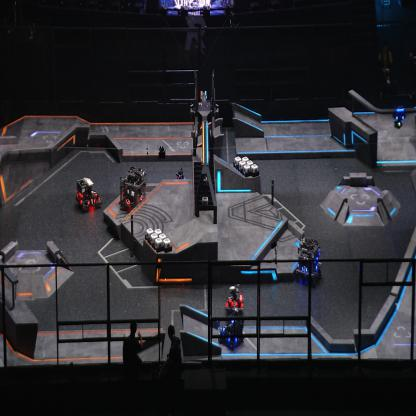car: (296, 235, 323, 286), (119, 167, 148, 213), (218, 307, 245, 351), (76, 176, 102, 214), (224, 283, 244, 316), (171, 166, 187, 190)
